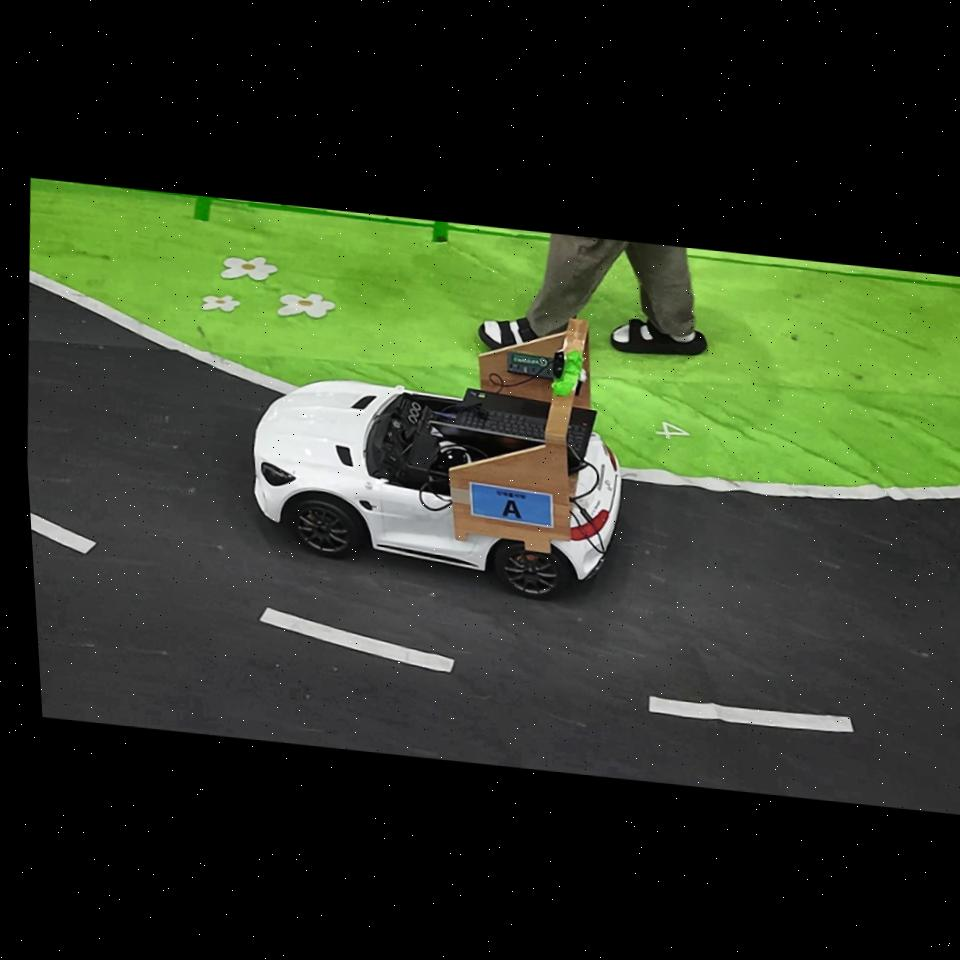broken_line: (259, 607, 454, 672), (649, 697, 854, 732), (30, 513, 97, 554)
